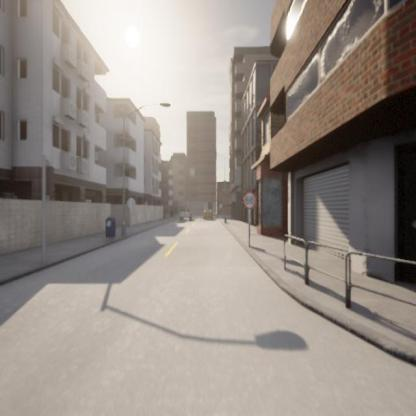traffic_sign_60: (243, 192, 256, 208)
